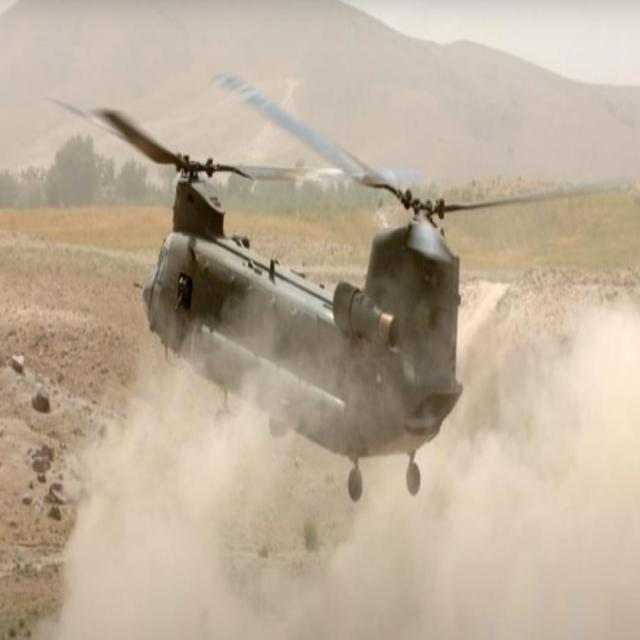Helicopter: (98, 111, 466, 528)
